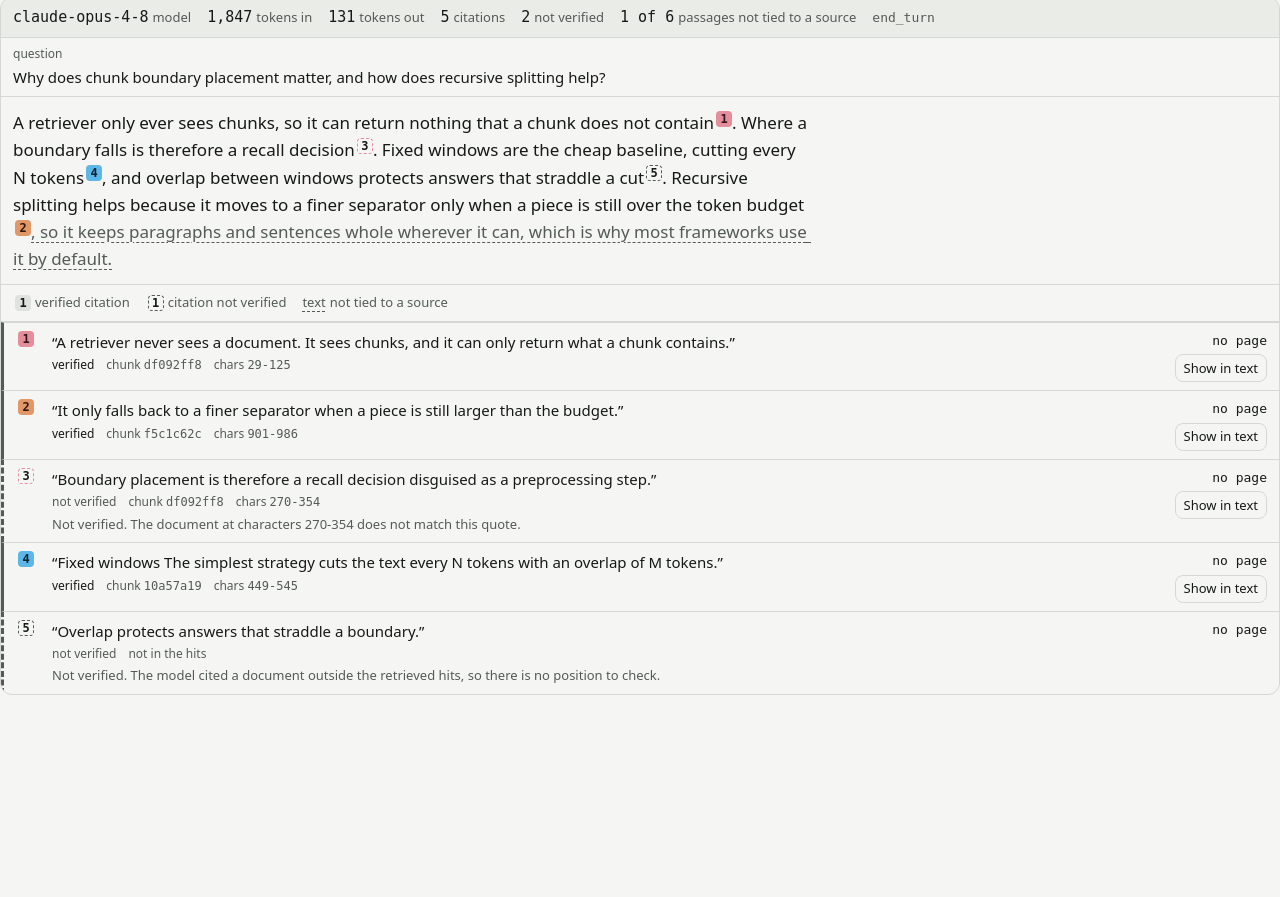
Test: a document without pages › Ask: a citation opens the text view with the cited piece marked, not a page or an error
This screenshot has width=1280, height=897.
Click the button "Show in text" in the row of "29" at (1221, 368), box [1174, 354, 1267, 382]
(page scrolled)
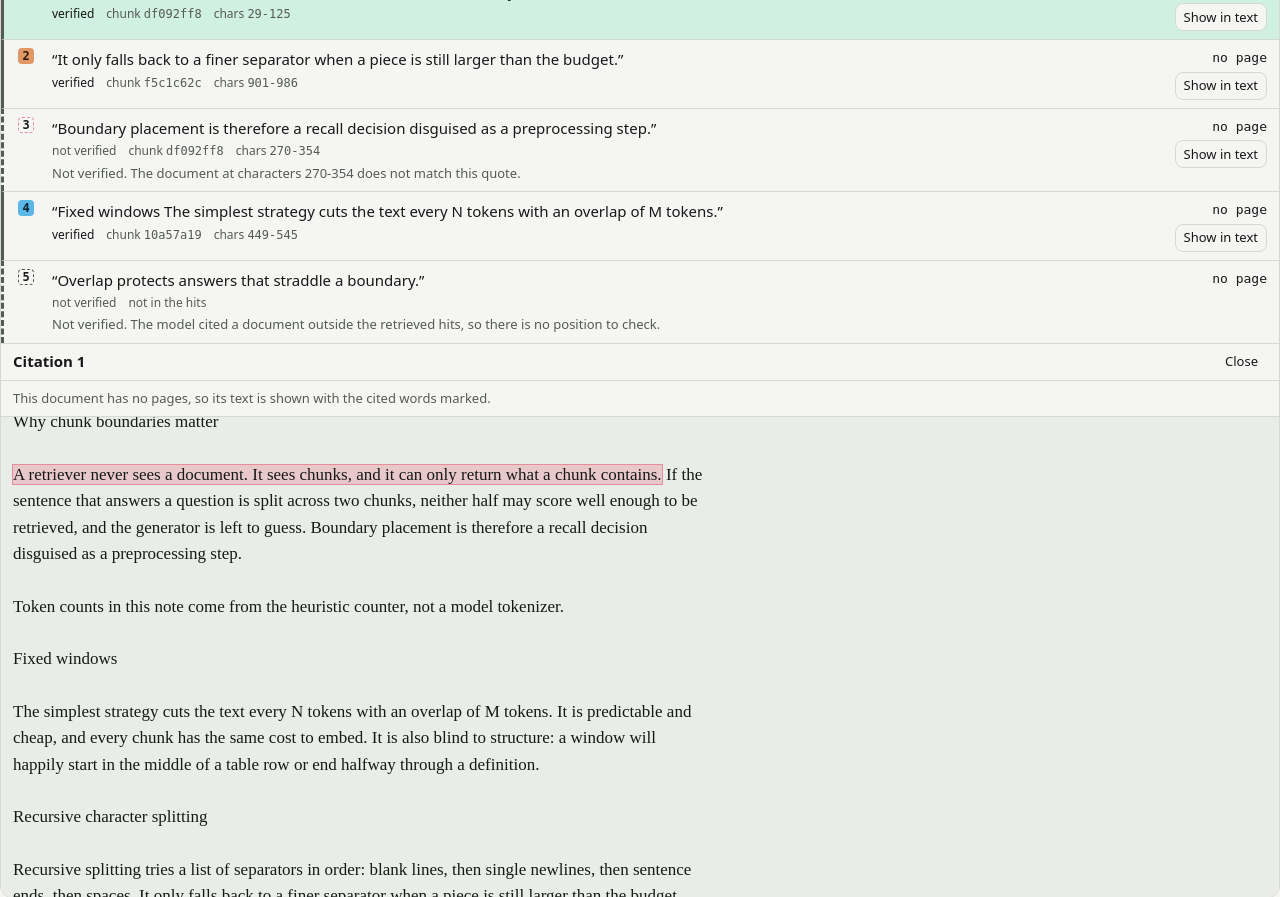
Expected: the element named "Document text" is shown
Expected: the text "Citation 1" is shown, [13, 350, 85, 373]
